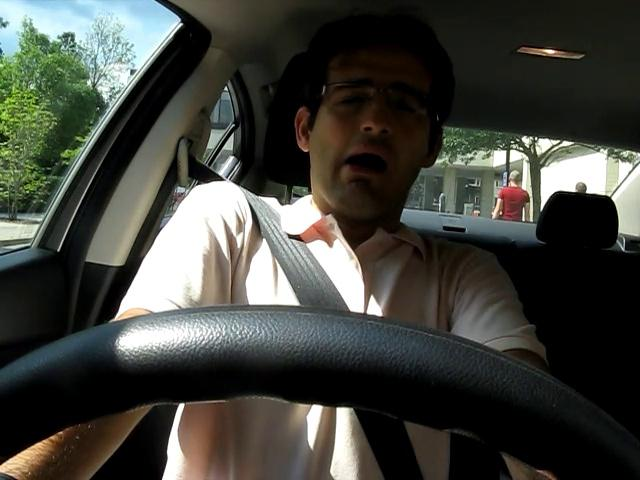close_eyeL: (323, 84, 376, 121)
close_eyeR: (386, 91, 449, 129)
yawn: (322, 139, 407, 186)
